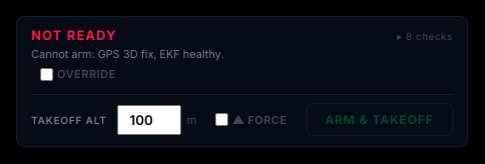
Scenario: one-verdict pre-flight › keeps OVERRIDE reachable while the detail is collapsed
The image size is (485, 164).
Click the checkbox labelled "OVERRIDE" at point(47, 74), box [40,68,53,80]
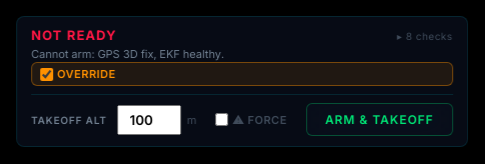
Expected: the button "ARM & TAKEOFF" is enabled, [306,103,453,136]
